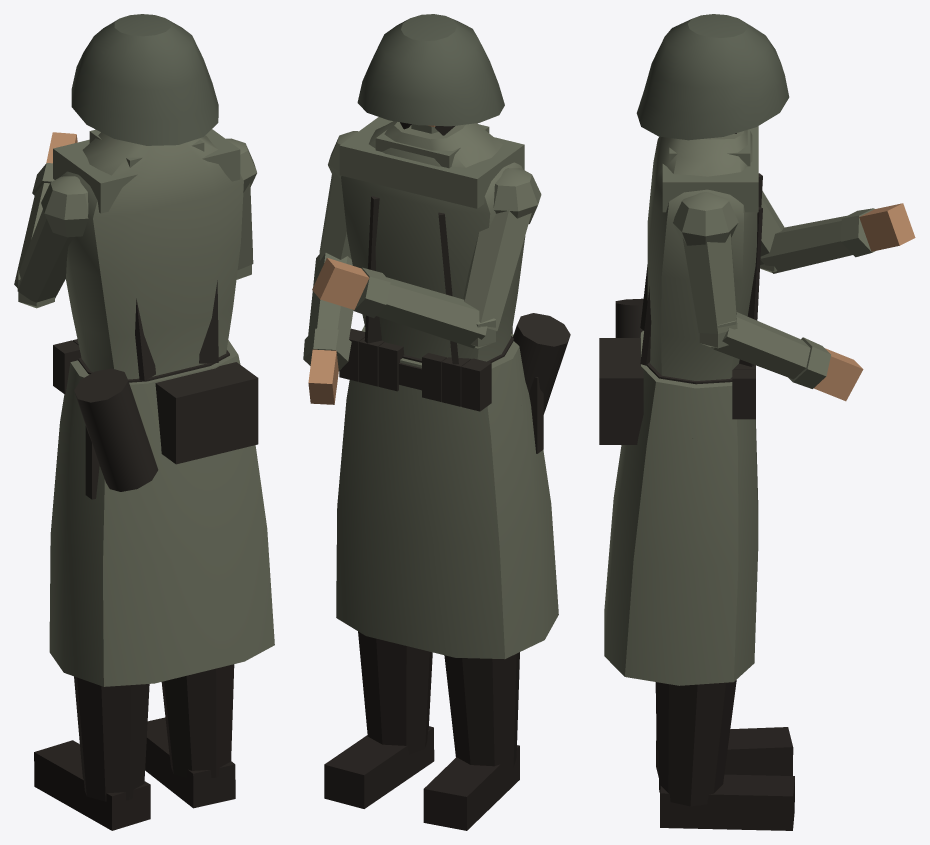
File: soldier_de_coat_stand_rifle.glb
The picture shows the model from 3 angles, left to right: view 1: azimuth 30°, elevation 25°; view 2: azimuth 150°, elevation 25°; view 3: azimuth 270°, elevation 25°; orthographic projection.
Parts seen in each view (by area): view 1: soldier_de_coat_stand_rifle; view 2: soldier_de_coat_stand_rifle; view 3: soldier_de_coat_stand_rifle.
Part boxes in pixels (x1=…): soldier_de_coat_stand_rifle: x1=14, y1=14, x2=274, y2=830; soldier_de_coat_stand_rifle: x1=303, y1=14, x2=570, y2=830; soldier_de_coat_stand_rifle: x1=599, y1=14, x2=915, y2=830.
Size of the model in its own units: 0.5085 by 1.75 by 0.6459.
